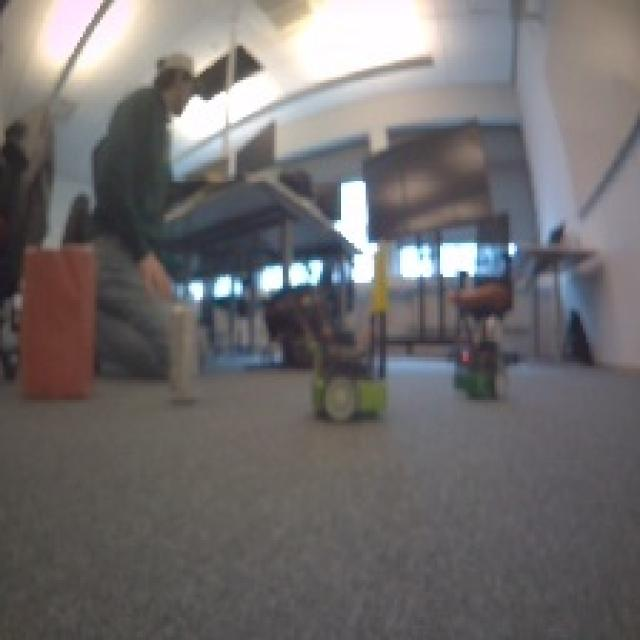robot: (311, 334, 392, 424), (451, 332, 509, 404)
target: (14, 240, 97, 400)
